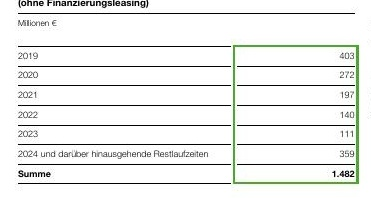table: (0, 0, 371, 198)
